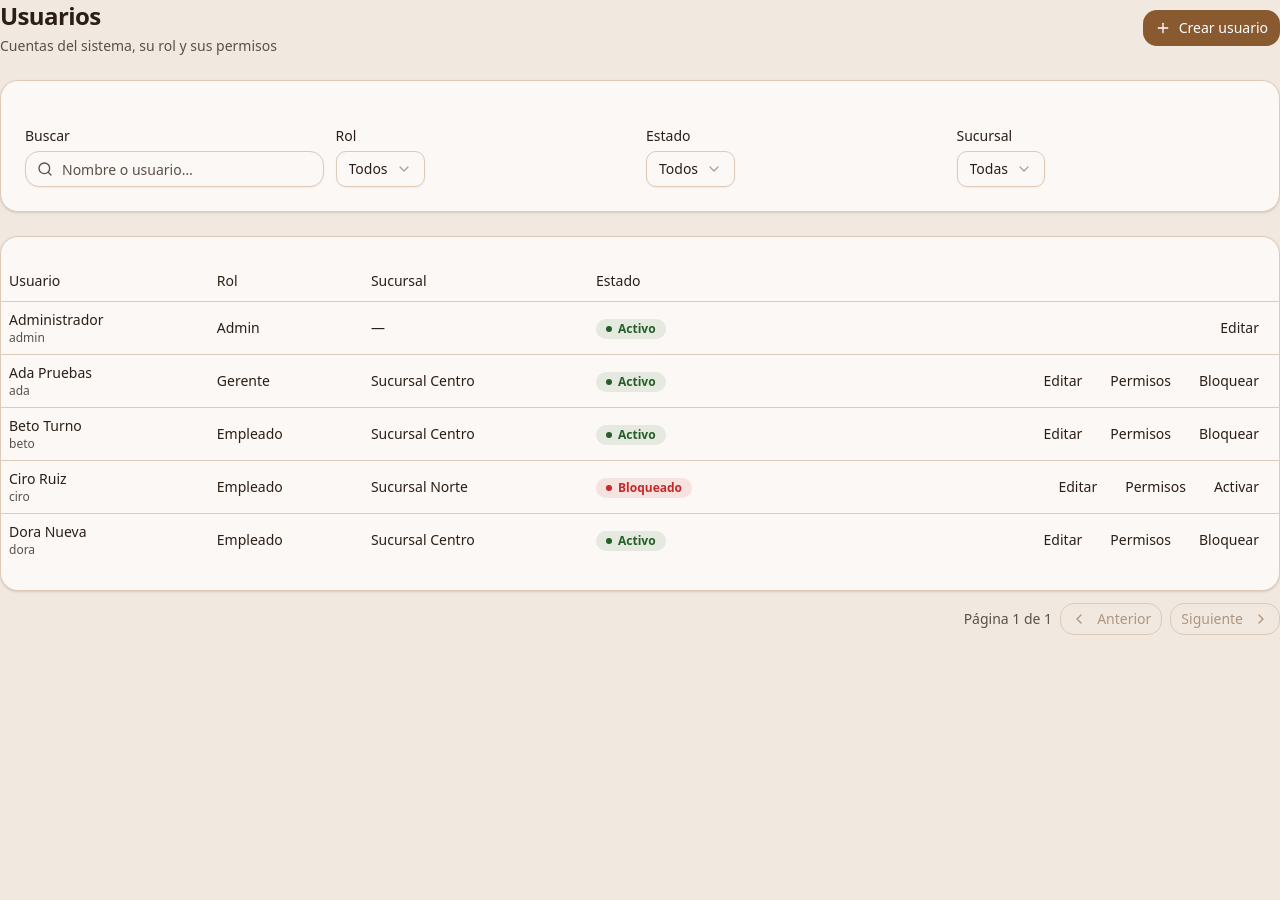
Test: Gestión de usuarios › el Admin edita rol y sucursal de un Empleado
Expected: the text "Beto Turno" is shown, [9, 416, 82, 434]
Click the button "Editar" in the row of "Beto Turno" at [1063, 434], box [1032, 418, 1094, 450]
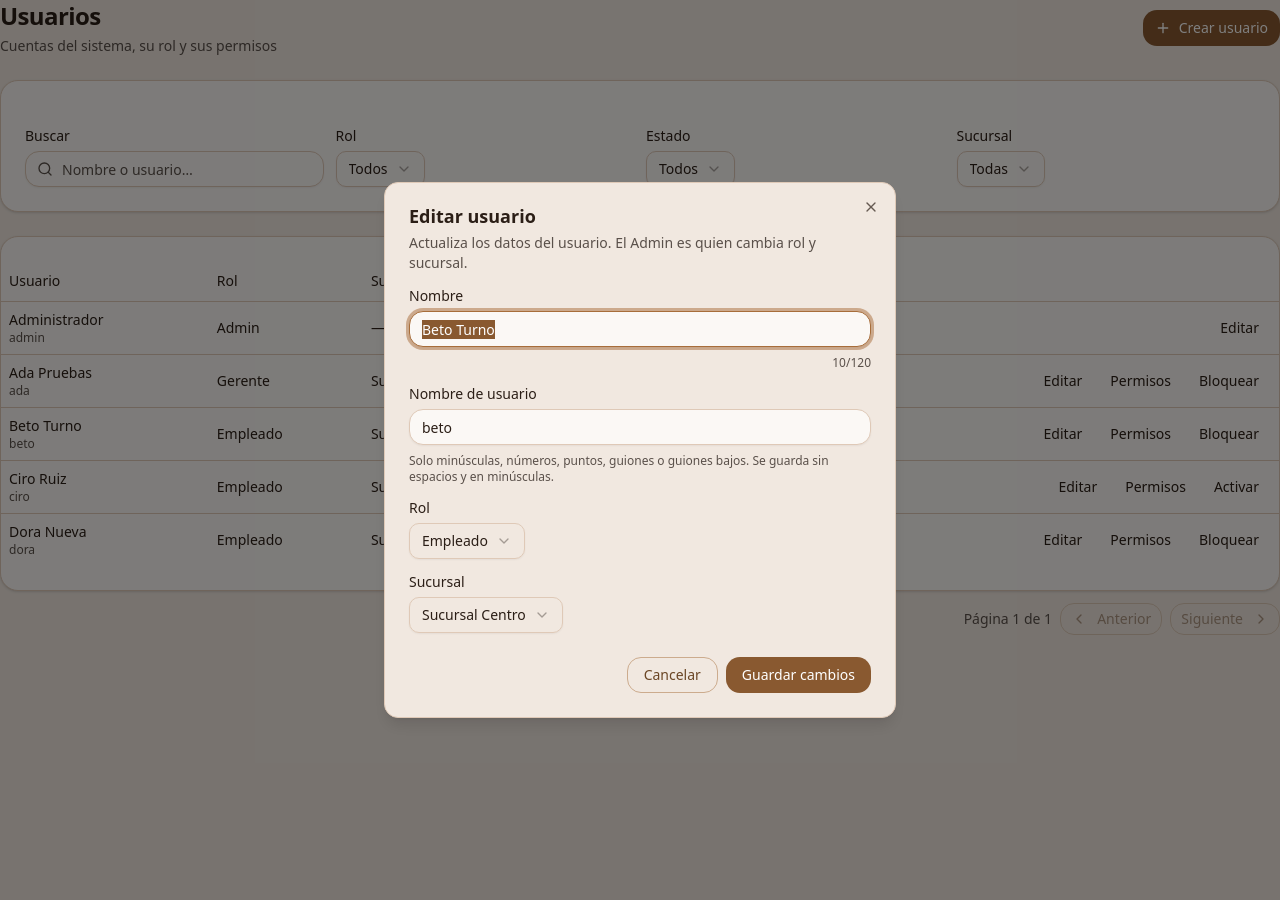
Click the dropdown named "Rol" at [467, 541], box [409, 523, 525, 559]
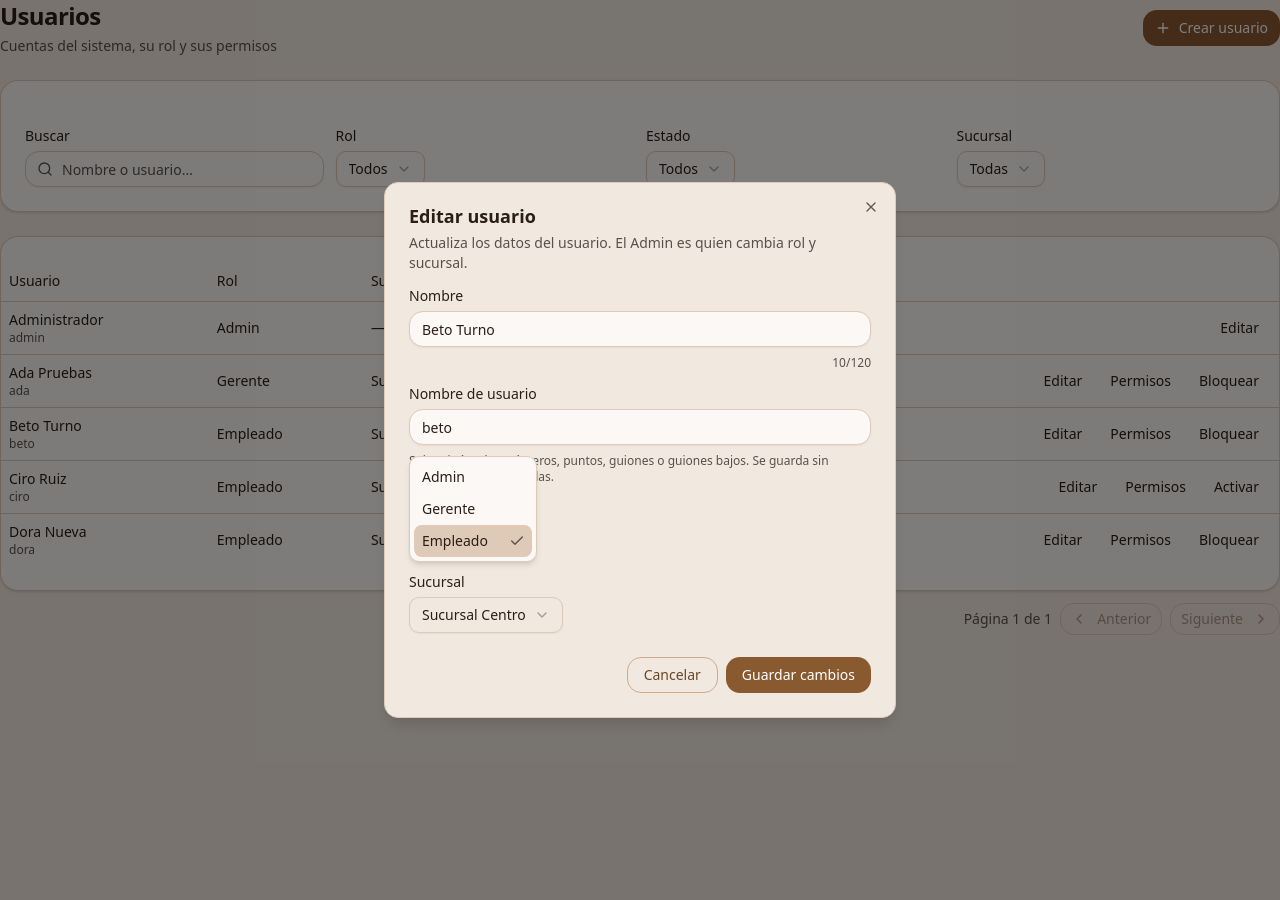
Click the option "Gerente" at [449, 508], box [422, 499, 475, 518]
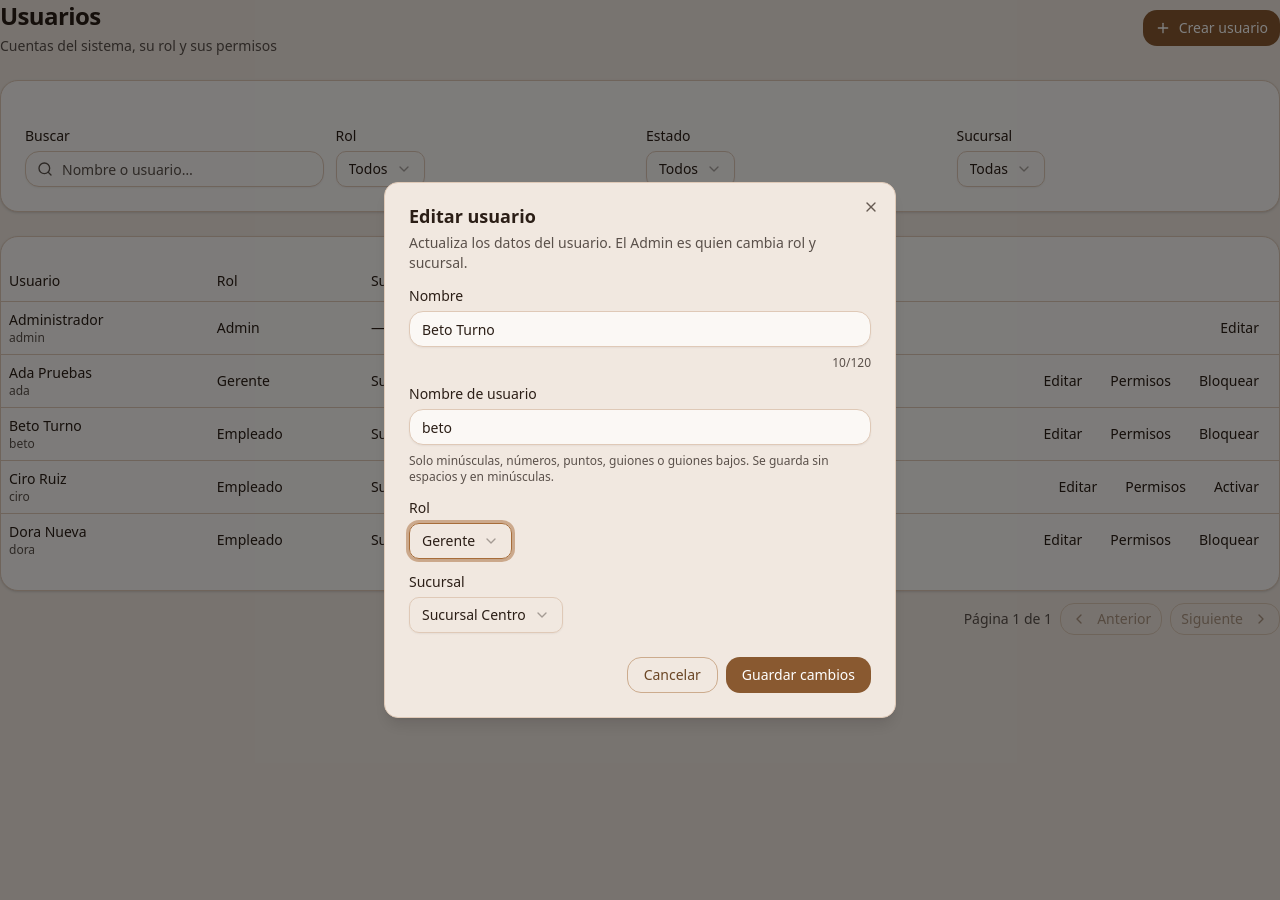
Click the dropdown labelled "Sucursal" at [486, 615], box [409, 597, 563, 633]
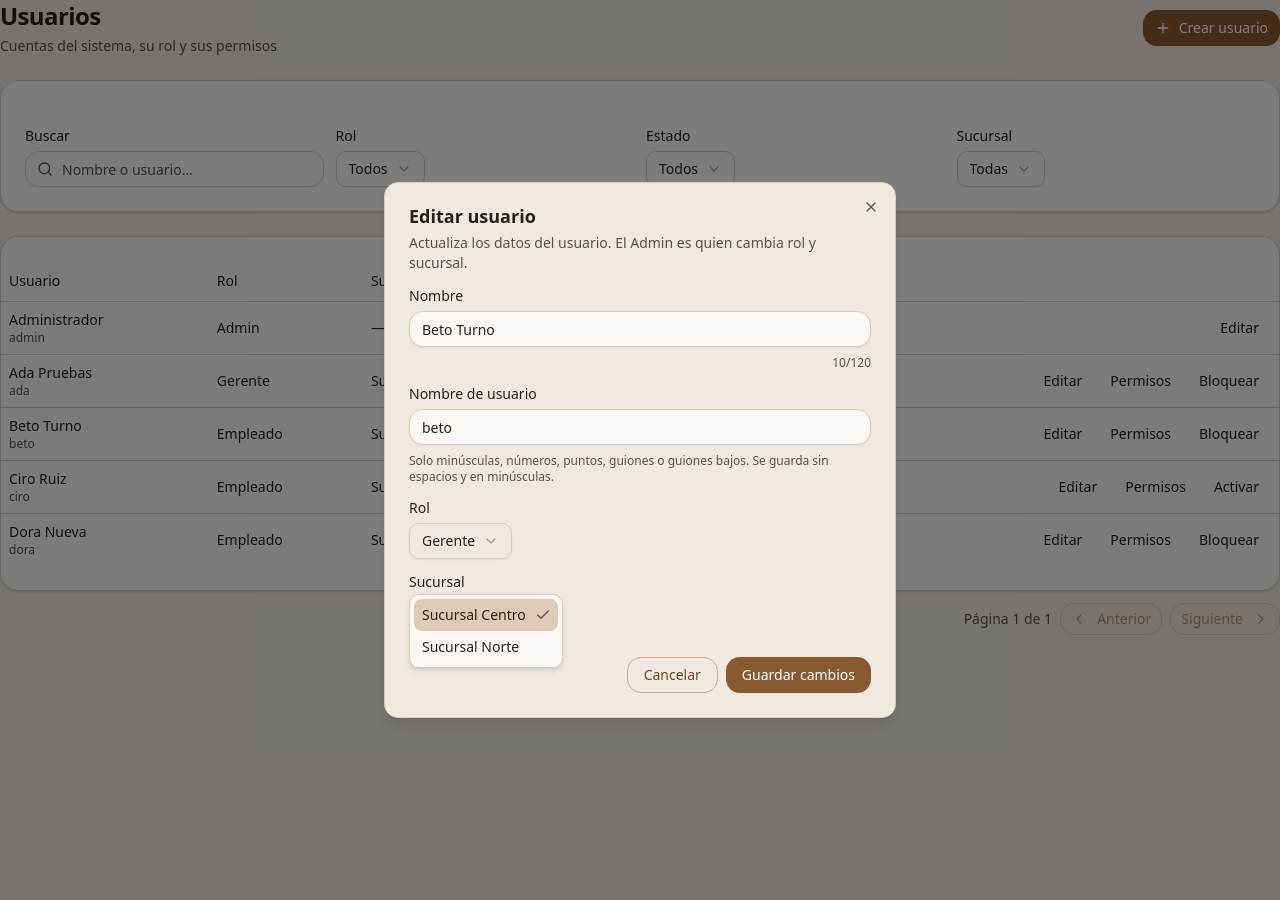
Click the option "Sucursal Norte" at [471, 646], box [422, 637, 519, 656]
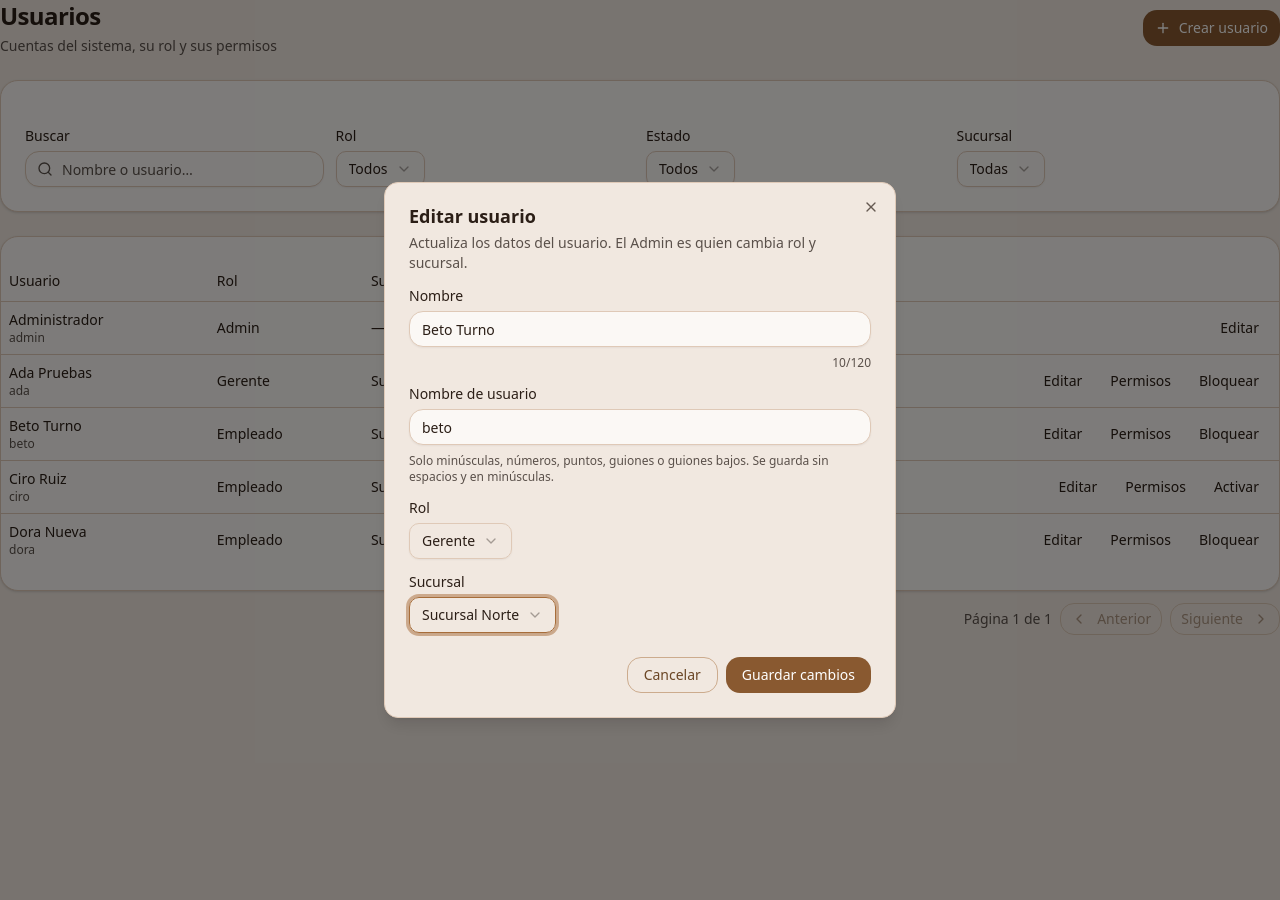
Click the button "Guardar cambios" at [798, 675], box [726, 657, 871, 693]
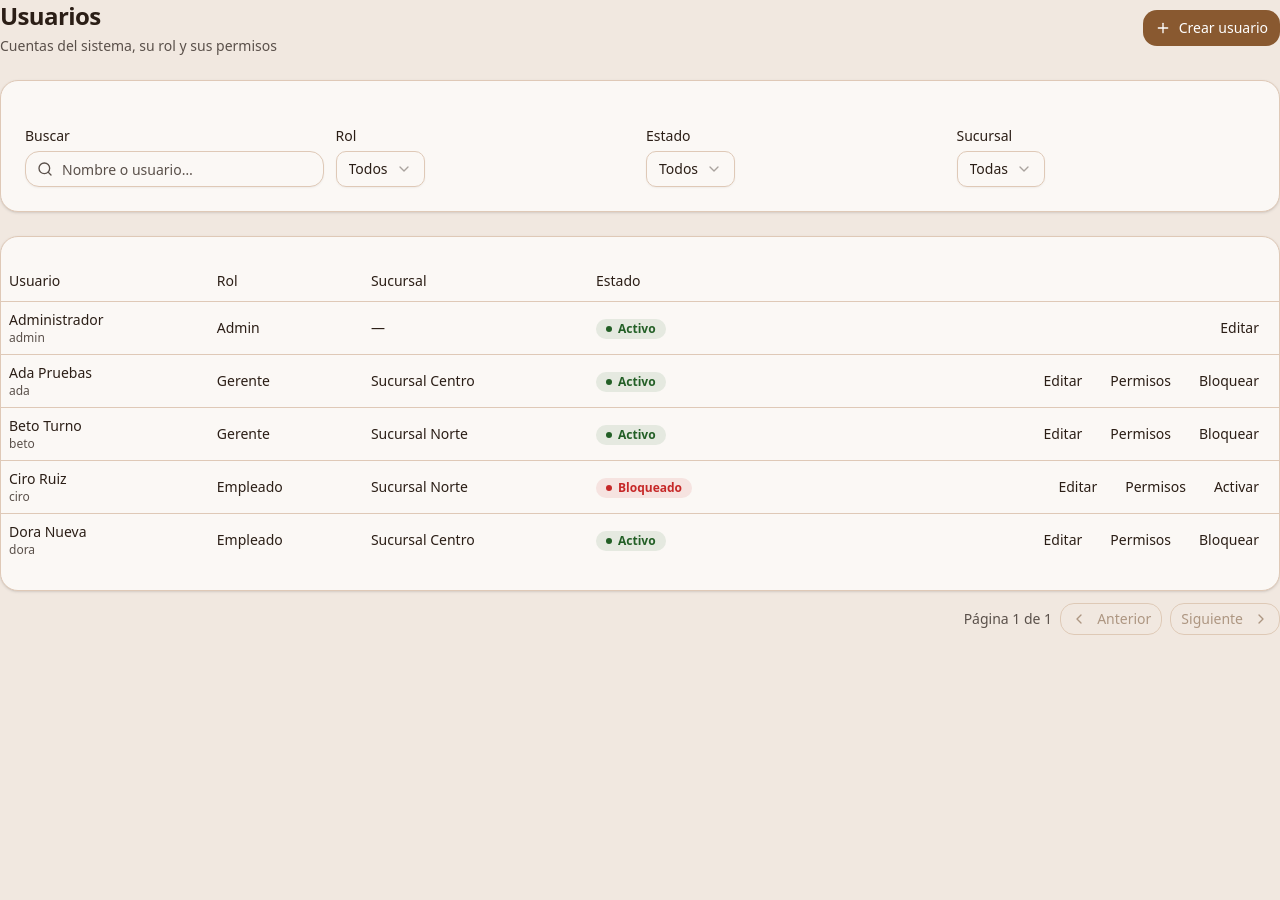
Result: the text "Sucursal Norte" in the row of "Beto Turno" is shown at [371, 424, 468, 442]
